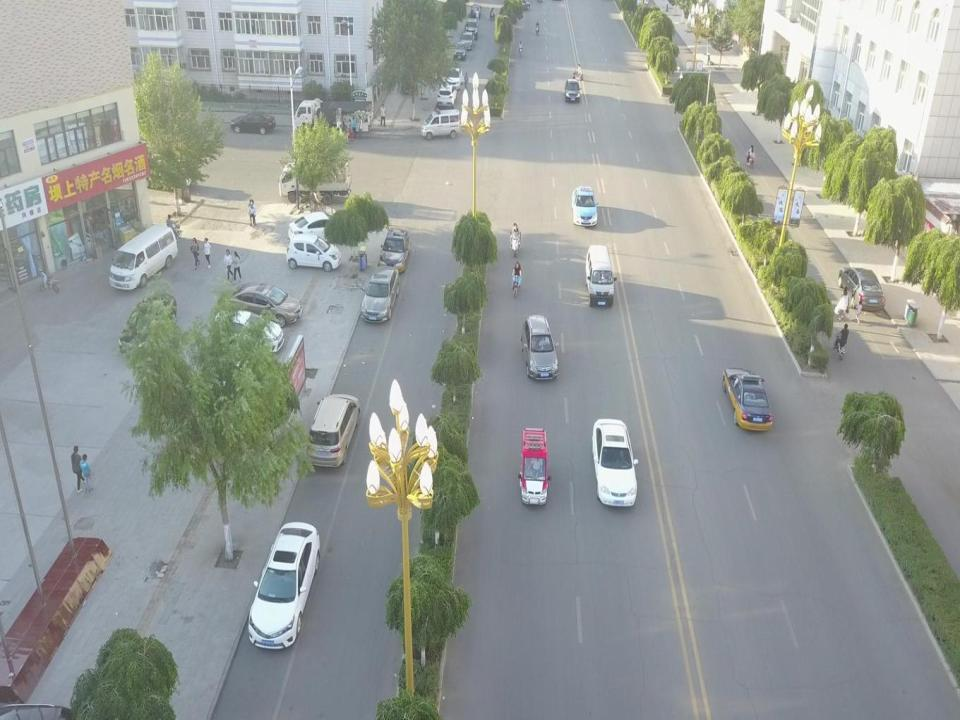car: (247, 522, 320, 652), (591, 416, 639, 507), (216, 280, 303, 328), (211, 308, 285, 356), (722, 365, 773, 433), (118, 293, 176, 352), (287, 211, 359, 248), (522, 314, 560, 380), (360, 265, 399, 323), (286, 233, 342, 271), (838, 266, 885, 310), (377, 228, 411, 274), (571, 185, 600, 227), (230, 109, 275, 135), (436, 85, 457, 108), (564, 78, 582, 103), (446, 67, 462, 90), (507, 0, 531, 13), (464, 18, 478, 39), (458, 33, 474, 51), (452, 42, 466, 60), (470, 4, 482, 17)
truck: (293, 99, 375, 138), (278, 161, 352, 203)
van: (109, 225, 178, 291), (304, 392, 362, 470), (585, 246, 618, 308), (420, 107, 460, 141)
